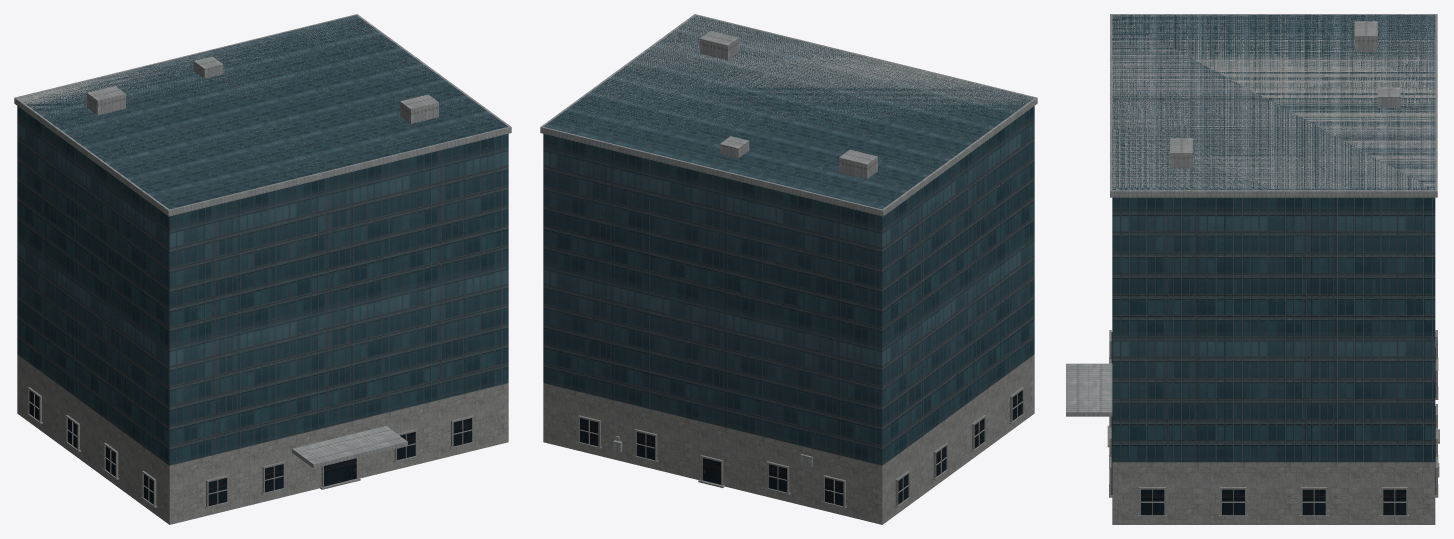
The model's file is bagley-office-block_lod0.gltf.
The picture shows the model from 3 angles, left to right: view 1: azimuth 30°, elevation 25°; view 2: azimuth 150°, elevation 25°; view 3: azimuth 270°, elevation 25°; orthographic projection. The views are drawn at different scales.
Visible parts, largest first — view 1: bagley-office-block_upper, bagley-office-block_base, bagley-office-block__parapet, bagley-office-block_fen_07-glass-curtain-blue_1_t, bagley-office-block_fen_06-granite_0, bagley-office-block__canopy, bagley-office-block__hvac_a, bagley-office-block__hvac_b; view 2: bagley-office-block_upper, bagley-office-block_base, bagley-office-block__parapet, bagley-office-block_fen_07-glass-curtain-blue_1_t, bagley-office-block_fen_06-granite_0, bagley-office-block__hvac_a, bagley-office-block__hvac_b; view 3: bagley-office-block_upper, bagley-office-block__parapet, bagley-office-block_base, bagley-office-block_fen_07-glass-curtain-blue_1_t, bagley-office-block__canopy, bagley-office-block_fen_06-granite_0, bagley-office-block__hvac_b, bagley-office-block__hvac_a, bagley-office-block__vent.
Boxes of the visible parts, box(x1,y1,x2,y2) form: bagley-office-block_upper: box(17, 15, 508, 465); bagley-office-block_base: box(17, 354, 508, 524); bagley-office-block__parapet: box(14, 14, 511, 216); bagley-office-block_fen_07-glass-curtain-blue_1_t: box(29, 390, 471, 506); bagley-office-block_fen_06-granite_0: box(27, 387, 474, 508); bagley-office-block__canopy: box(292, 426, 407, 468); bagley-office-block__hvac_a: box(400, 94, 438, 123); bagley-office-block__hvac_b: box(87, 86, 125, 115); bagley-office-block_upper: box(543, 15, 1034, 465); bagley-office-block_base: box(543, 354, 1034, 524); bagley-office-block__parapet: box(540, 14, 1037, 216); bagley-office-block_fen_07-glass-curtain-blue_1_t: box(580, 390, 1022, 506); bagley-office-block_fen_06-granite_0: box(577, 387, 1024, 508); bagley-office-block__hvac_a: box(700, 31, 738, 60); bagley-office-block__hvac_b: box(839, 149, 877, 178); bagley-office-block_upper: box(1112, 15, 1435, 462); bagley-office-block__parapet: box(1110, 14, 1437, 197); bagley-office-block_base: box(1112, 462, 1435, 524); bagley-office-block_fen_07-glass-curtain-blue_1_t: box(1111, 332, 1435, 515); bagley-office-block__canopy: box(1066, 363, 1112, 416); bagley-office-block_fen_06-granite_0: box(1107, 330, 1439, 516); bagley-office-block__hvac_b: box(1354, 21, 1377, 51); bagley-office-block__hvac_a: box(1170, 138, 1192, 168); bagley-office-block__vent: box(1377, 87, 1400, 107).
Bounding box in the file's own units: 36.55 × 33.5 × 32.4.
